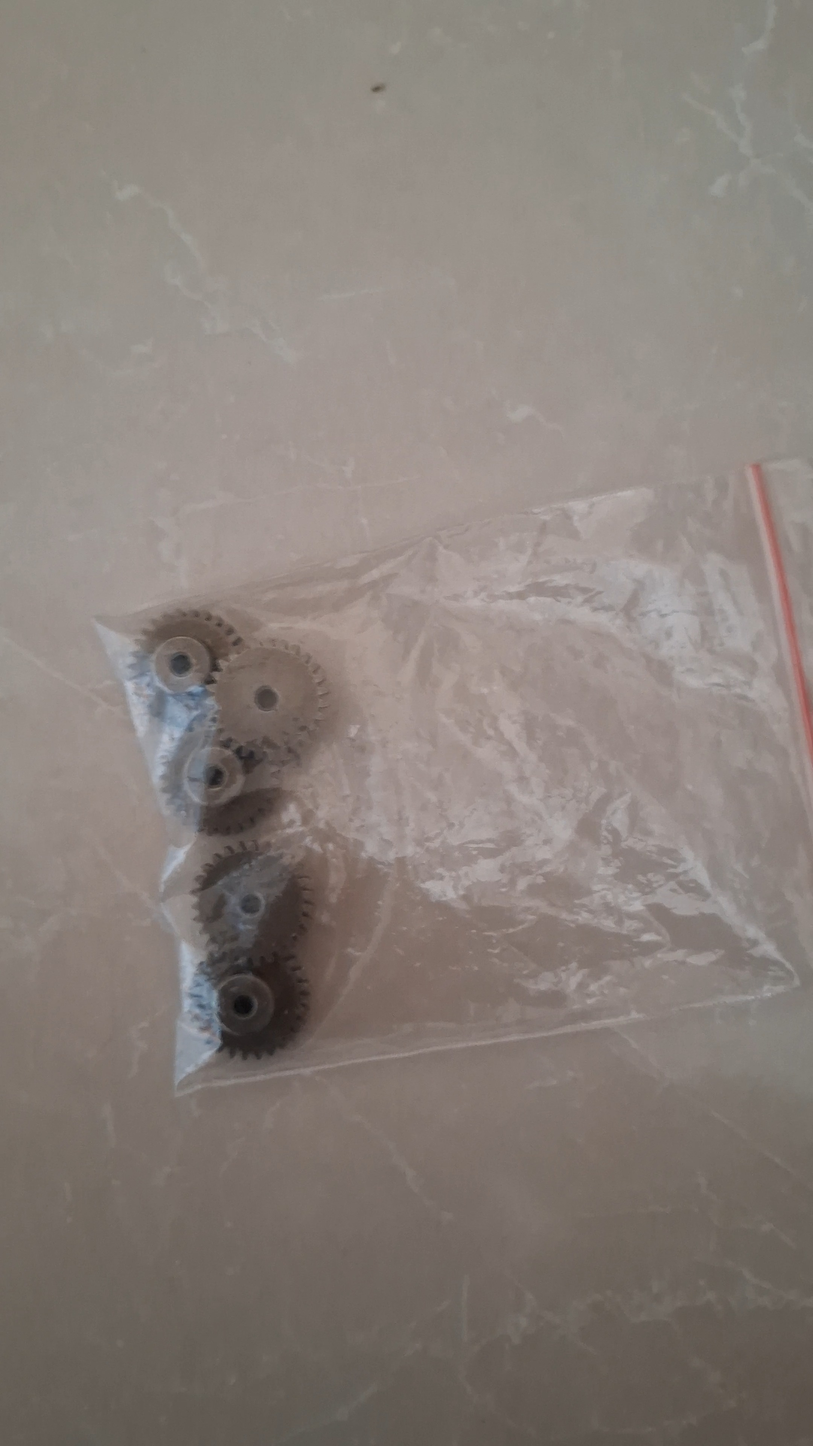spur gear: (214, 640, 328, 761), (161, 724, 276, 834), (195, 843, 311, 952), (206, 953, 309, 1058), (138, 609, 245, 693)
